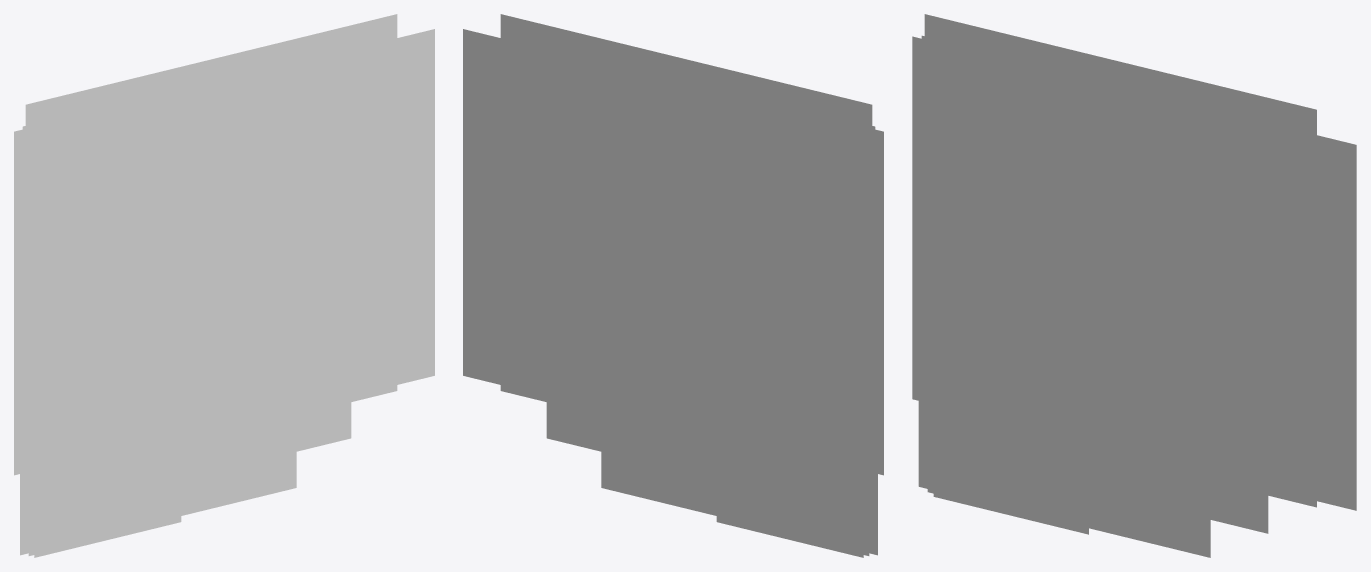
Rendered from BardiT.fbx.
The picture shows the model from 3 angles, left to right: view 1: azimuth 30°, elevation 25°; view 2: azimuth 150°, elevation 25°; view 3: azimuth 330°, elevation 25°; orthographic projection. The views are drawn at different scales.
Visible parts, largest first — view 1: Untitled.058, Untitled.077, Untitled.050, Untitled.096, Untitled.053, Untitled.074, Untitled.092, Untitled.088, Untitled.075, Untitled.093, Untitled.048, Untitled.078 (+33 smaller); view 2: Untitled.080, Untitled.060, Untitled.077, Untitled.008, Untitled.058, Untitled.092, Untitled.088, Untitled.095, Untitled.083, Untitled.086, Untitled.097, Untitled.074 (+27 smaller); view 3: Untitled.077, Untitled.091, Untitled.058, Untitled.084, Untitled.035, Untitled.052, Untitled.078, Untitled.097, Untitled.070, Untitled.092, Untitled.087, Untitled.090 (+27 smaller).
Part boxes in pixels (x1=…): Untitled.058: x1=25, y1=29, x2=434, y2=411; Untitled.077: x1=34, y1=94, x2=181, y2=557; Untitled.050: x1=44, y1=49, x2=339, y2=434; Untitled.096: x1=34, y1=68, x2=200, y2=488; Untitled.053: x1=46, y1=55, x2=319, y2=430; Untitled.074: x1=28, y1=185, x2=296, y2=552; Untitled.092: x1=20, y1=163, x2=281, y2=555; Untitled.088: x1=40, y1=147, x2=284, y2=450; Untitled.075: x1=43, y1=44, x2=284, y2=426; Untitled.093: x1=28, y1=186, x2=249, y2=468; Untitled.048: x1=52, y1=80, x2=397, y2=407; Untitled.078: x1=37, y1=44, x2=287, y2=344; Untitled.080: x1=526, y1=111, x2=857, y2=419; Untitled.060: x1=623, y1=92, x2=883, y2=475; Untitled.077: x1=716, y1=92, x2=863, y2=557; Untitled.008: x1=500, y1=14, x2=850, y2=441; Untitled.058: x1=463, y1=29, x2=782, y2=408; Untitled.092: x1=616, y1=132, x2=877, y2=555; Untitled.088: x1=613, y1=132, x2=857, y2=436; Untitled.095: x1=716, y1=73, x2=837, y2=421; Untitled.083: x1=616, y1=132, x2=847, y2=536; Untitled.086: x1=644, y1=137, x2=860, y2=385; Untitled.097: x1=581, y1=33, x2=840, y2=235; Untitled.074: x1=601, y1=121, x2=869, y2=552; Untitled.077: x1=933, y1=62, x2=1088, y2=534; Untitled.091: x1=928, y1=118, x2=1182, y2=468; Untitled.058: x1=925, y1=46, x2=1356, y2=510; Untitled.084: x1=940, y1=108, x2=1192, y2=553; Untitled.035: x1=941, y1=98, x2=1304, y2=494; Untitled.052: x1=944, y1=48, x2=1268, y2=533; Untitled.078: x1=936, y1=21, x2=1201, y2=458; Untitled.097: x1=958, y1=22, x2=1231, y2=257; Untitled.070: x1=940, y1=112, x2=1170, y2=459; Untitled.092: x1=918, y1=108, x2=1195, y2=553; Untitled.087: x1=924, y1=71, x2=1130, y2=449; Untitled.090: x1=930, y1=115, x2=1301, y2=497.
Size of the model in its own units: 122 by 126 by 2.05e-05.
Materials: 1 (1 with a texture image).
